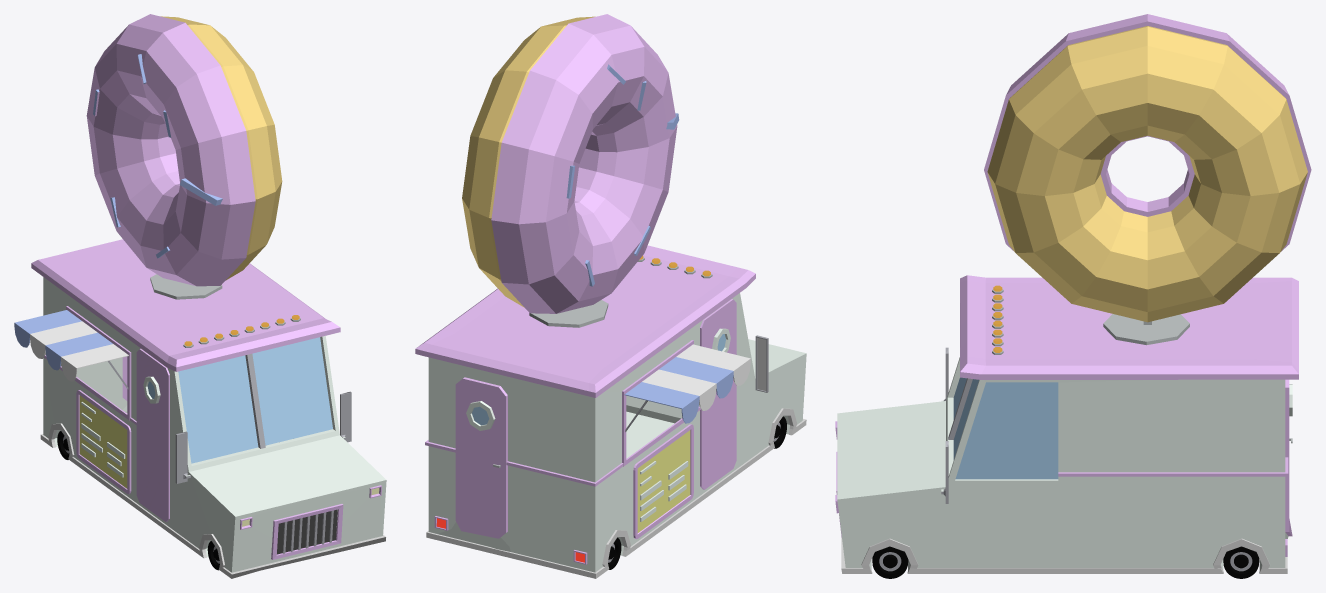
File: deville_kobe_toy.glb
3 views of the same model, side by side, from view 1: azimuth 30°, elevation 25°; view 2: azimuth 150°, elevation 25°; view 3: azimuth 270°, elevation 25° (orthographic). The views are drawn at different scales.
Visible parts, largest first — view 1: Car, Donut, Mirrors, roof lights, wielen; view 2: Car, Donut, Mirrors, wielen; view 3: Car, Donut, wielen, roof lights.
Part boxes in pixels (bbox=[...]): Car: bbox=[14, 239, 386, 578]; Donut: bbox=[86, 14, 282, 299]; Mirrors: bbox=[175, 391, 351, 483]; roof lights: bbox=[183, 315, 300, 347]; wielen: bbox=[57, 431, 219, 570]; Car: bbox=[415, 245, 806, 578]; Donut: bbox=[462, 14, 679, 327]; Mirrors: bbox=[755, 335, 768, 392]; wielen: bbox=[608, 416, 786, 569]; Car: bbox=[835, 275, 1298, 573]; Donut: bbox=[984, 14, 1311, 345]; wielen: bbox=[872, 546, 1259, 578]; roof lights: bbox=[992, 285, 1003, 354].
Bounding box in the file's own units: 3.97 × 7.8 × 6.46.
